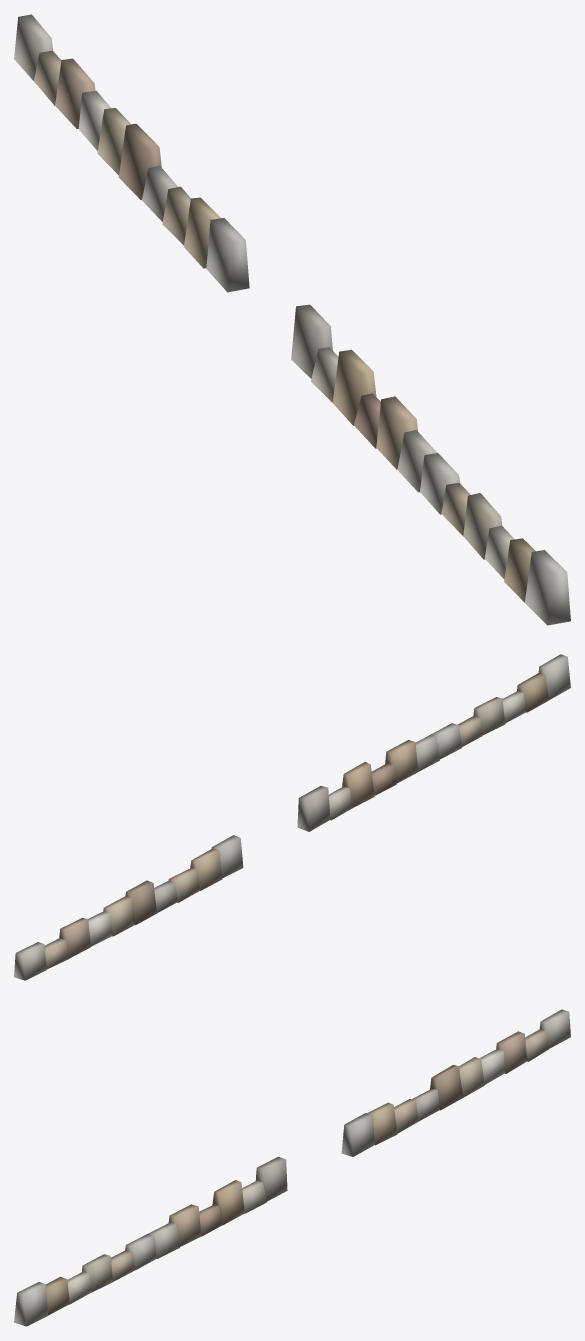
File: farm_11_17_far.glb
3 renders of one model, top to bottom at view 1: azimuth 30°, elevation 25°; view 2: azimuth 150°, elevation 25°; view 3: azimuth 330°, elevation 25°, orthographic. The views are drawn at different scales.
Visible parts, largest first — view 1: geometry_0; view 2: geometry_0; view 3: geometry_0.
Boxes of the visible parts, x1,y1,x2,y2 form: geometry_0: (14,14,570,625); geometry_0: (14,654,570,980); geometry_0: (14,1009,570,1326).
Size of the model in its own units: 6.3 by 1.76 by 38.48.
